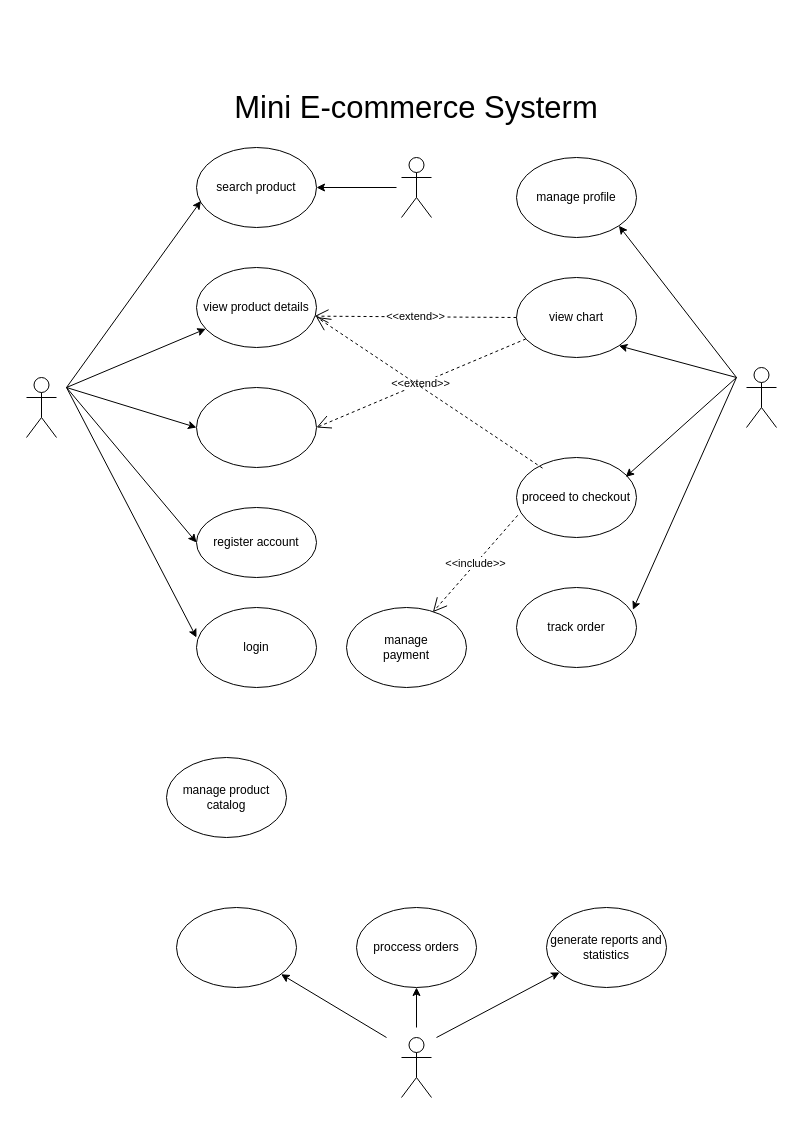
Image size: 805x1135. Some labels were removed from this diagram. The shapes that lost their labels are listed below. From the top down, each one's box as (x1, y1, x2, y2) in pixels, then its label:
(400, 156, 432, 218): Actor
(26, 376, 56, 438): customer
(746, 366, 776, 428): registered member
(196, 386, 316, 468): add to cart
(176, 906, 296, 988): manage user accounts
(400, 1036, 432, 1098): administrator
